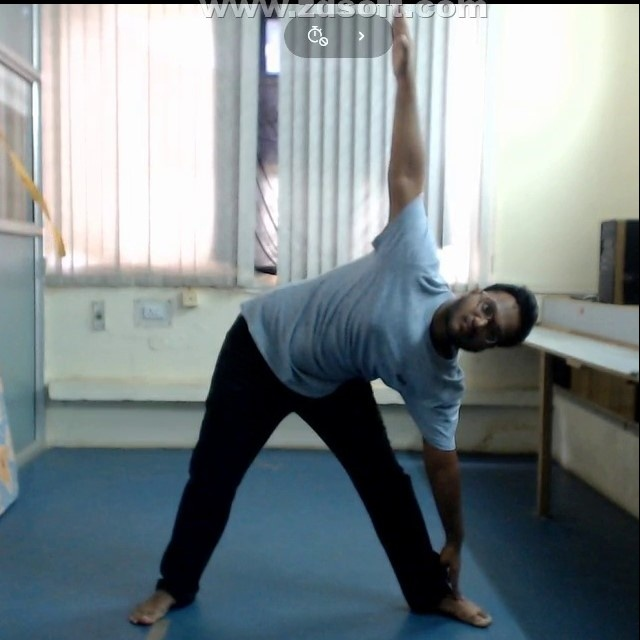Triangle_Pose: (107, 4, 548, 631)
